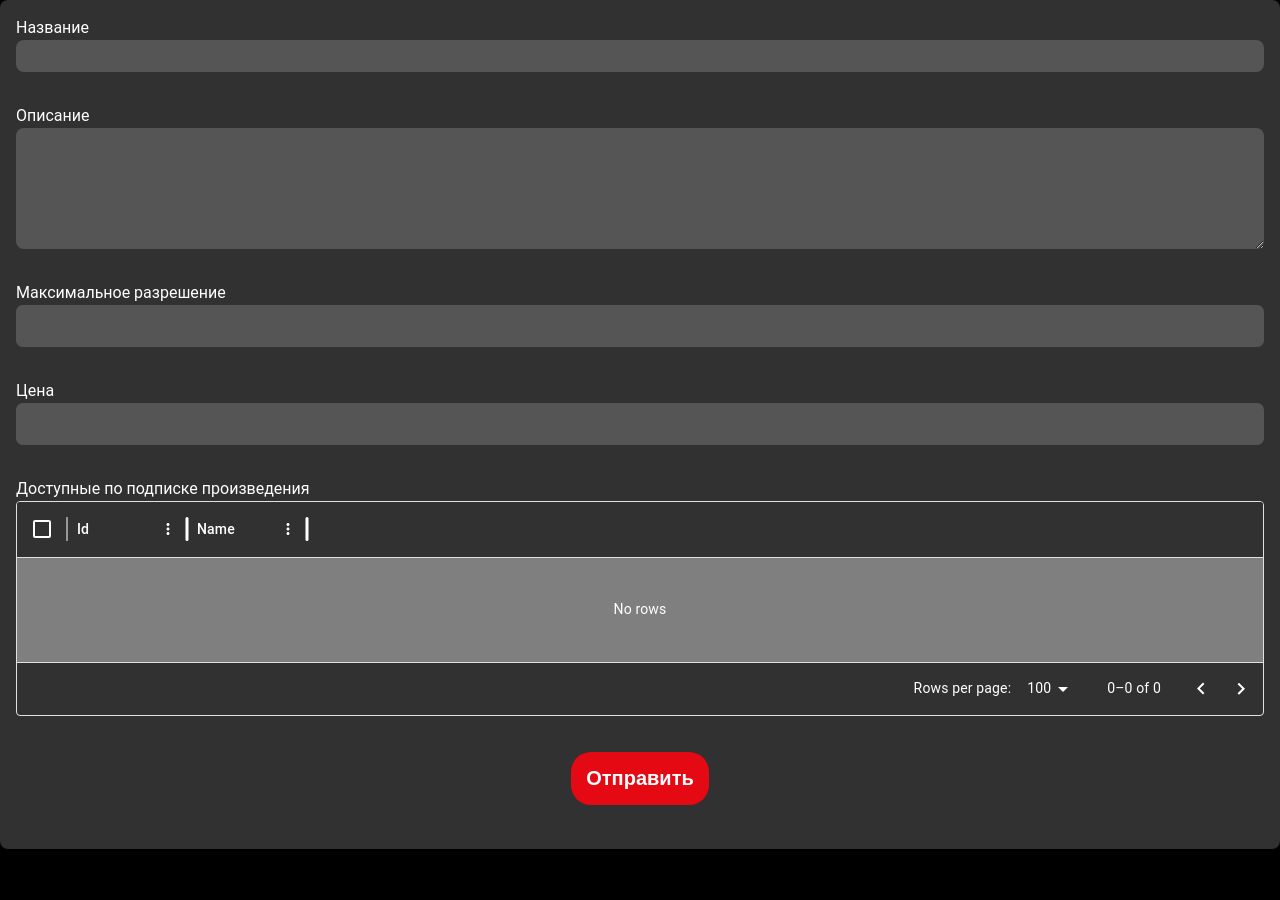
Test: SubscriptionForm Component › shows validation errors for empty fields
Step 1. Click the button "Отправить" → (640, 778), box [571, 752, 709, 804]
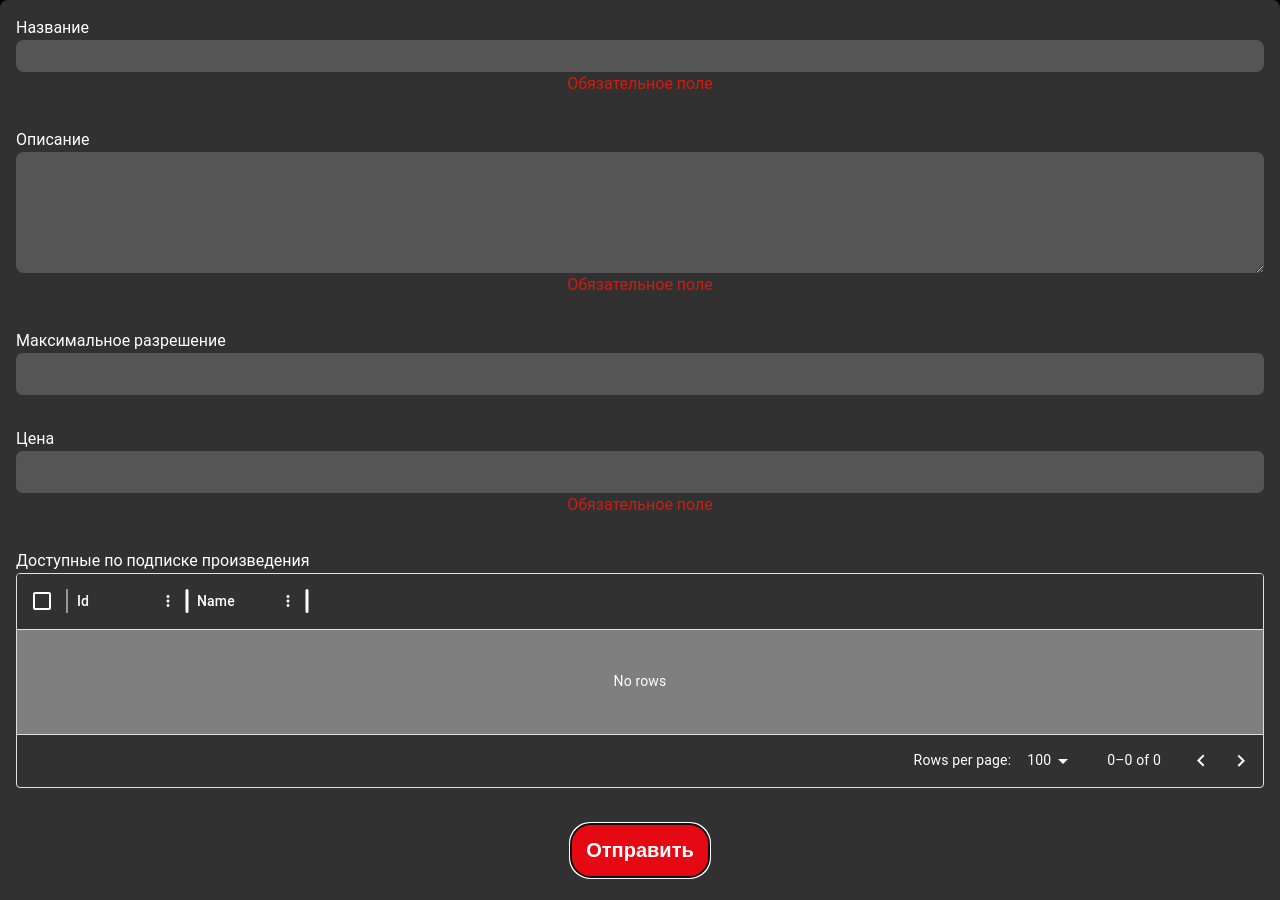
Check: the 1st text "Обязательное поле" is shown, box [567, 72, 713, 96]
